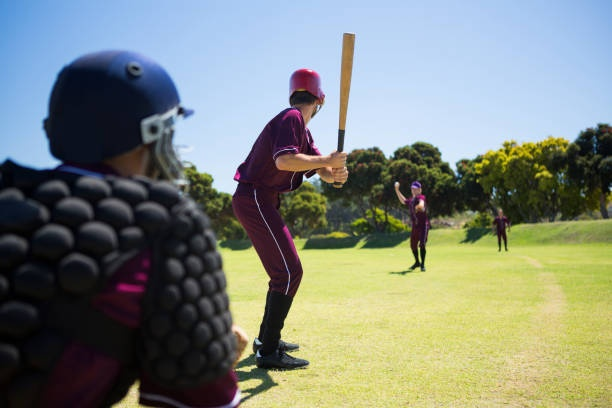bita: (326, 30, 356, 184)
